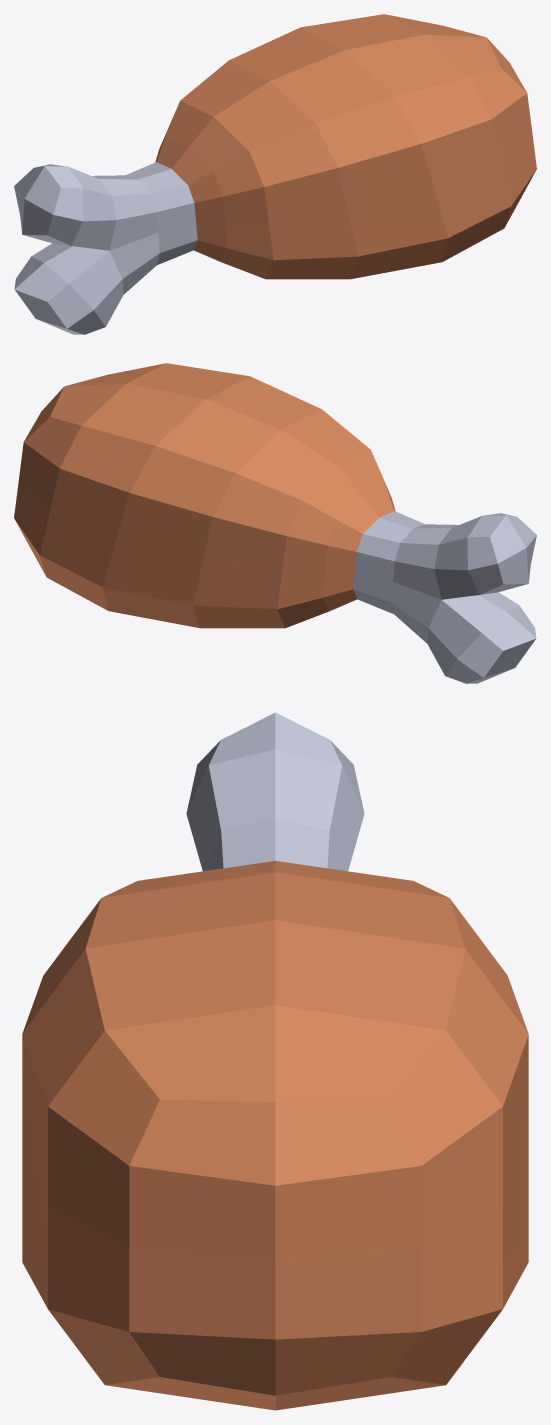
Rendered from chicken_leg.glb.
3 views of the same model, one above another, from view 1: azimuth 30°, elevation 25°; view 2: azimuth 150°, elevation 25°; view 3: azimuth 270°, elevation 25° (orthographic). The views are drawn at different scales.
Visible parts, largest first — view 1: ChickenLeg_Cube.010; view 2: ChickenLeg_Cube.010; view 3: ChickenLeg_Cube.010.
Boxes of the visible parts, box(x1,y1,x2,y2) form: ChickenLeg_Cube.010: box(14, 14, 536, 334); ChickenLeg_Cube.010: box(14, 363, 536, 683); ChickenLeg_Cube.010: box(22, 712, 528, 1410).
Bounding box in the file's own units: 0.6717 × 0.2792 × 0.2938.
1 material, 1 textured.
